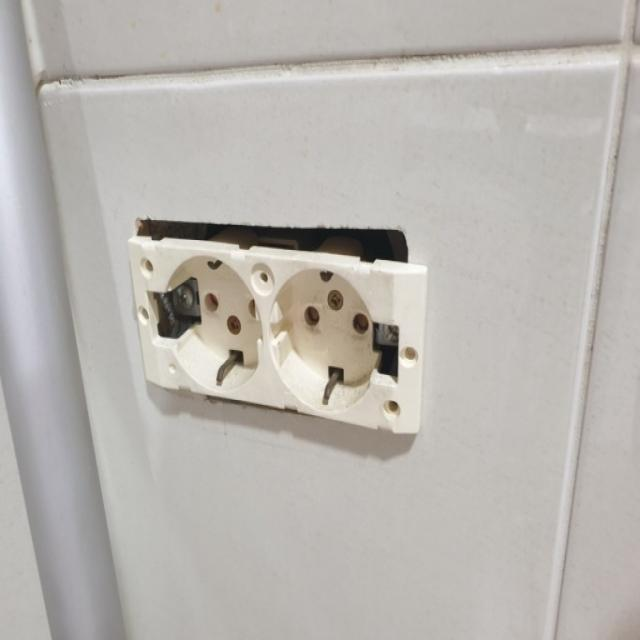typeb: (102, 193, 476, 452)
